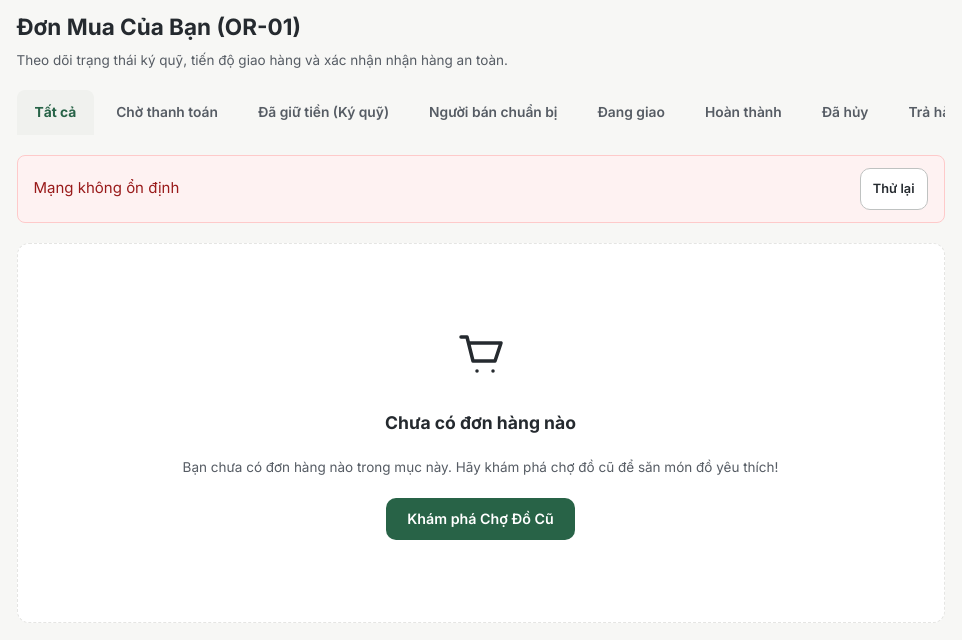
Test case: BuyerOrdersView Component › shows error message with Thử lại button and retries successfully
Check: the text "Mạng không ổn định" is shown, box [34, 177, 179, 200]
Click the button "Thử lại".
click(894, 189)  # box [860, 168, 928, 210]
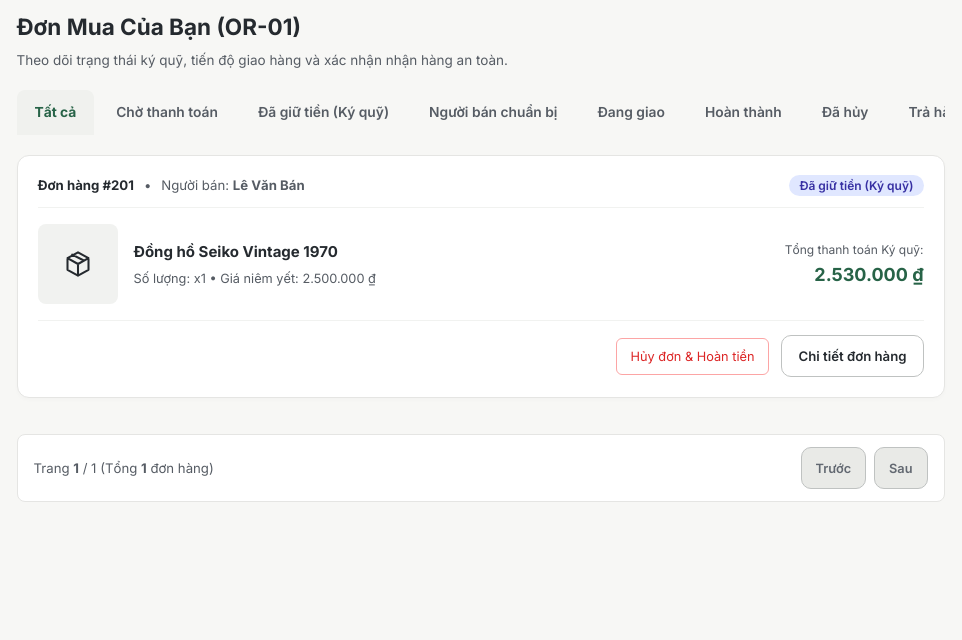
Check: the heading "Đồng hồ Seiko Vintage 1970" is shown, box [134, 242, 338, 261]
